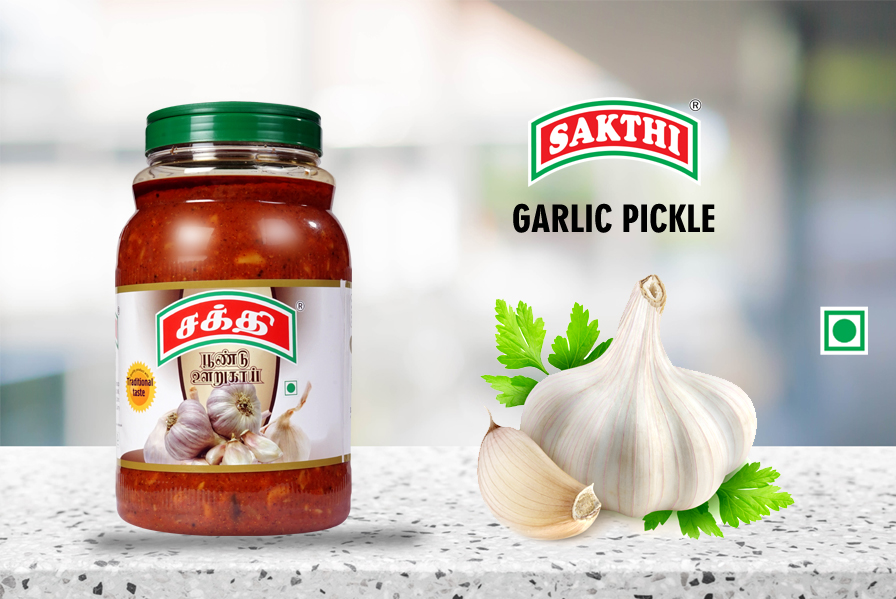VEG: (820, 305, 868, 357), (285, 381, 299, 396)
